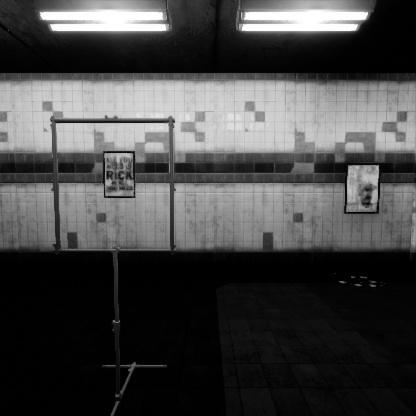gate: (51, 161, 186, 299)
